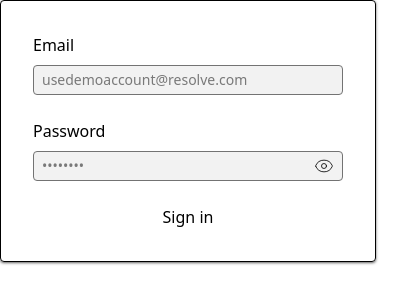
Test: Signin Form › Shows error check while submitting with empty fields
Click the button "Sign in": x=188, y=217 x1=163 y1=205 x2=213 y2=229
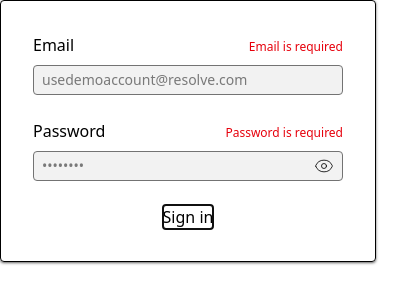
Now the text "Password is required" is shown, box x1=225 y1=125 x2=343 y2=141
Now the text "Email is required" is shown, box x1=249 y1=39 x2=343 y2=55
